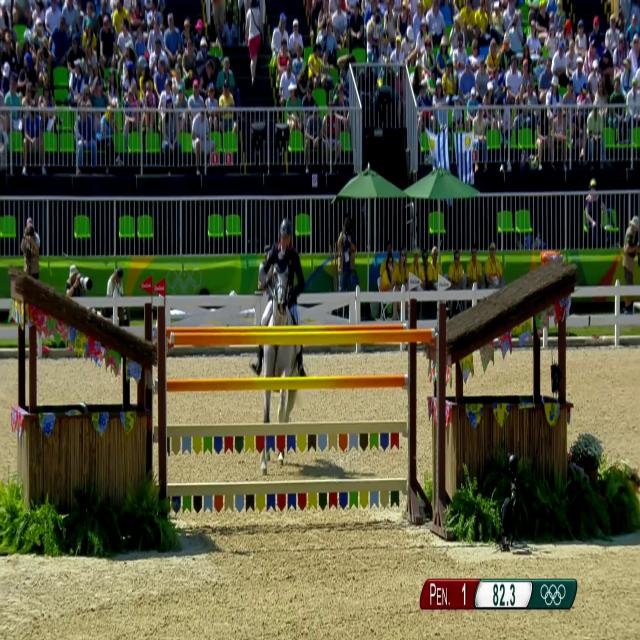Horse Rider: (254, 192, 308, 403)
Horse Running: (240, 252, 318, 446)
